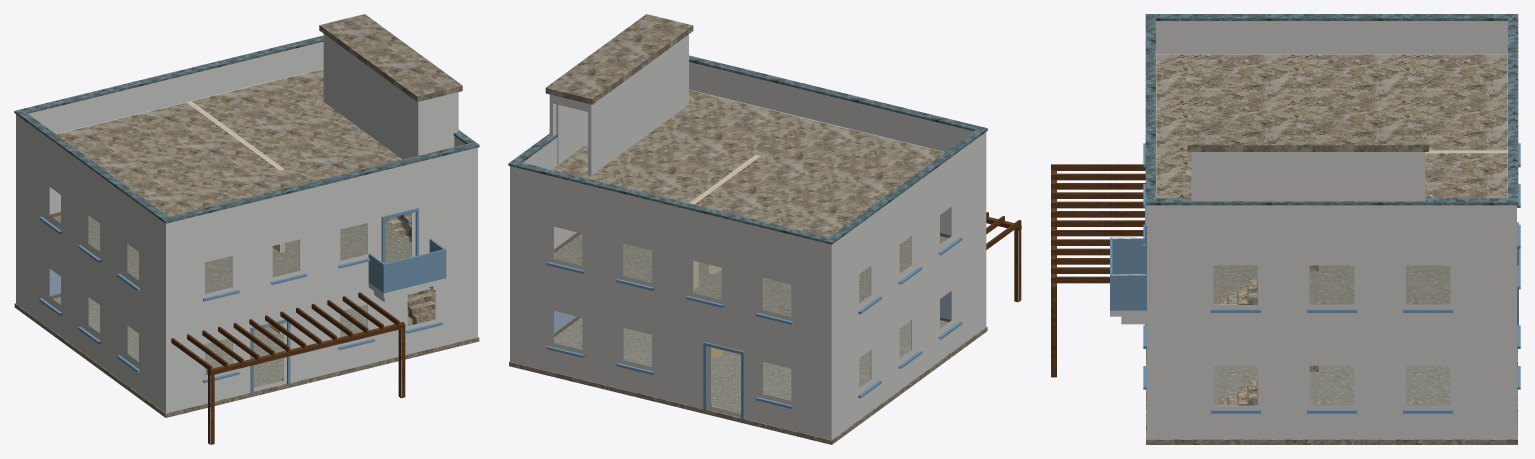
File: bay-villa-white.reveal-v1.lod0.glb
3 renders of one model, left to right at view 1: azimuth 30°, elevation 25°; view 2: azimuth 150°, elevation 25°; view 3: azimuth 270°, elevation 25°, orthographic. The views are drawn at different scales.
Parts seen in each view (by area): view 1: bay-villa-white; view 2: bay-villa-white; view 3: bay-villa-white.
Part boxes in pixels (x1,y1,x2,y2): bay-villa-white: [14, 14, 479, 444]; bay-villa-white: [508, 14, 1021, 444]; bay-villa-white: [1051, 14, 1520, 444].
Bounding box in the file's own units: 12.2 × 8.96 × 12.72.
4 materials, 3 textured.
